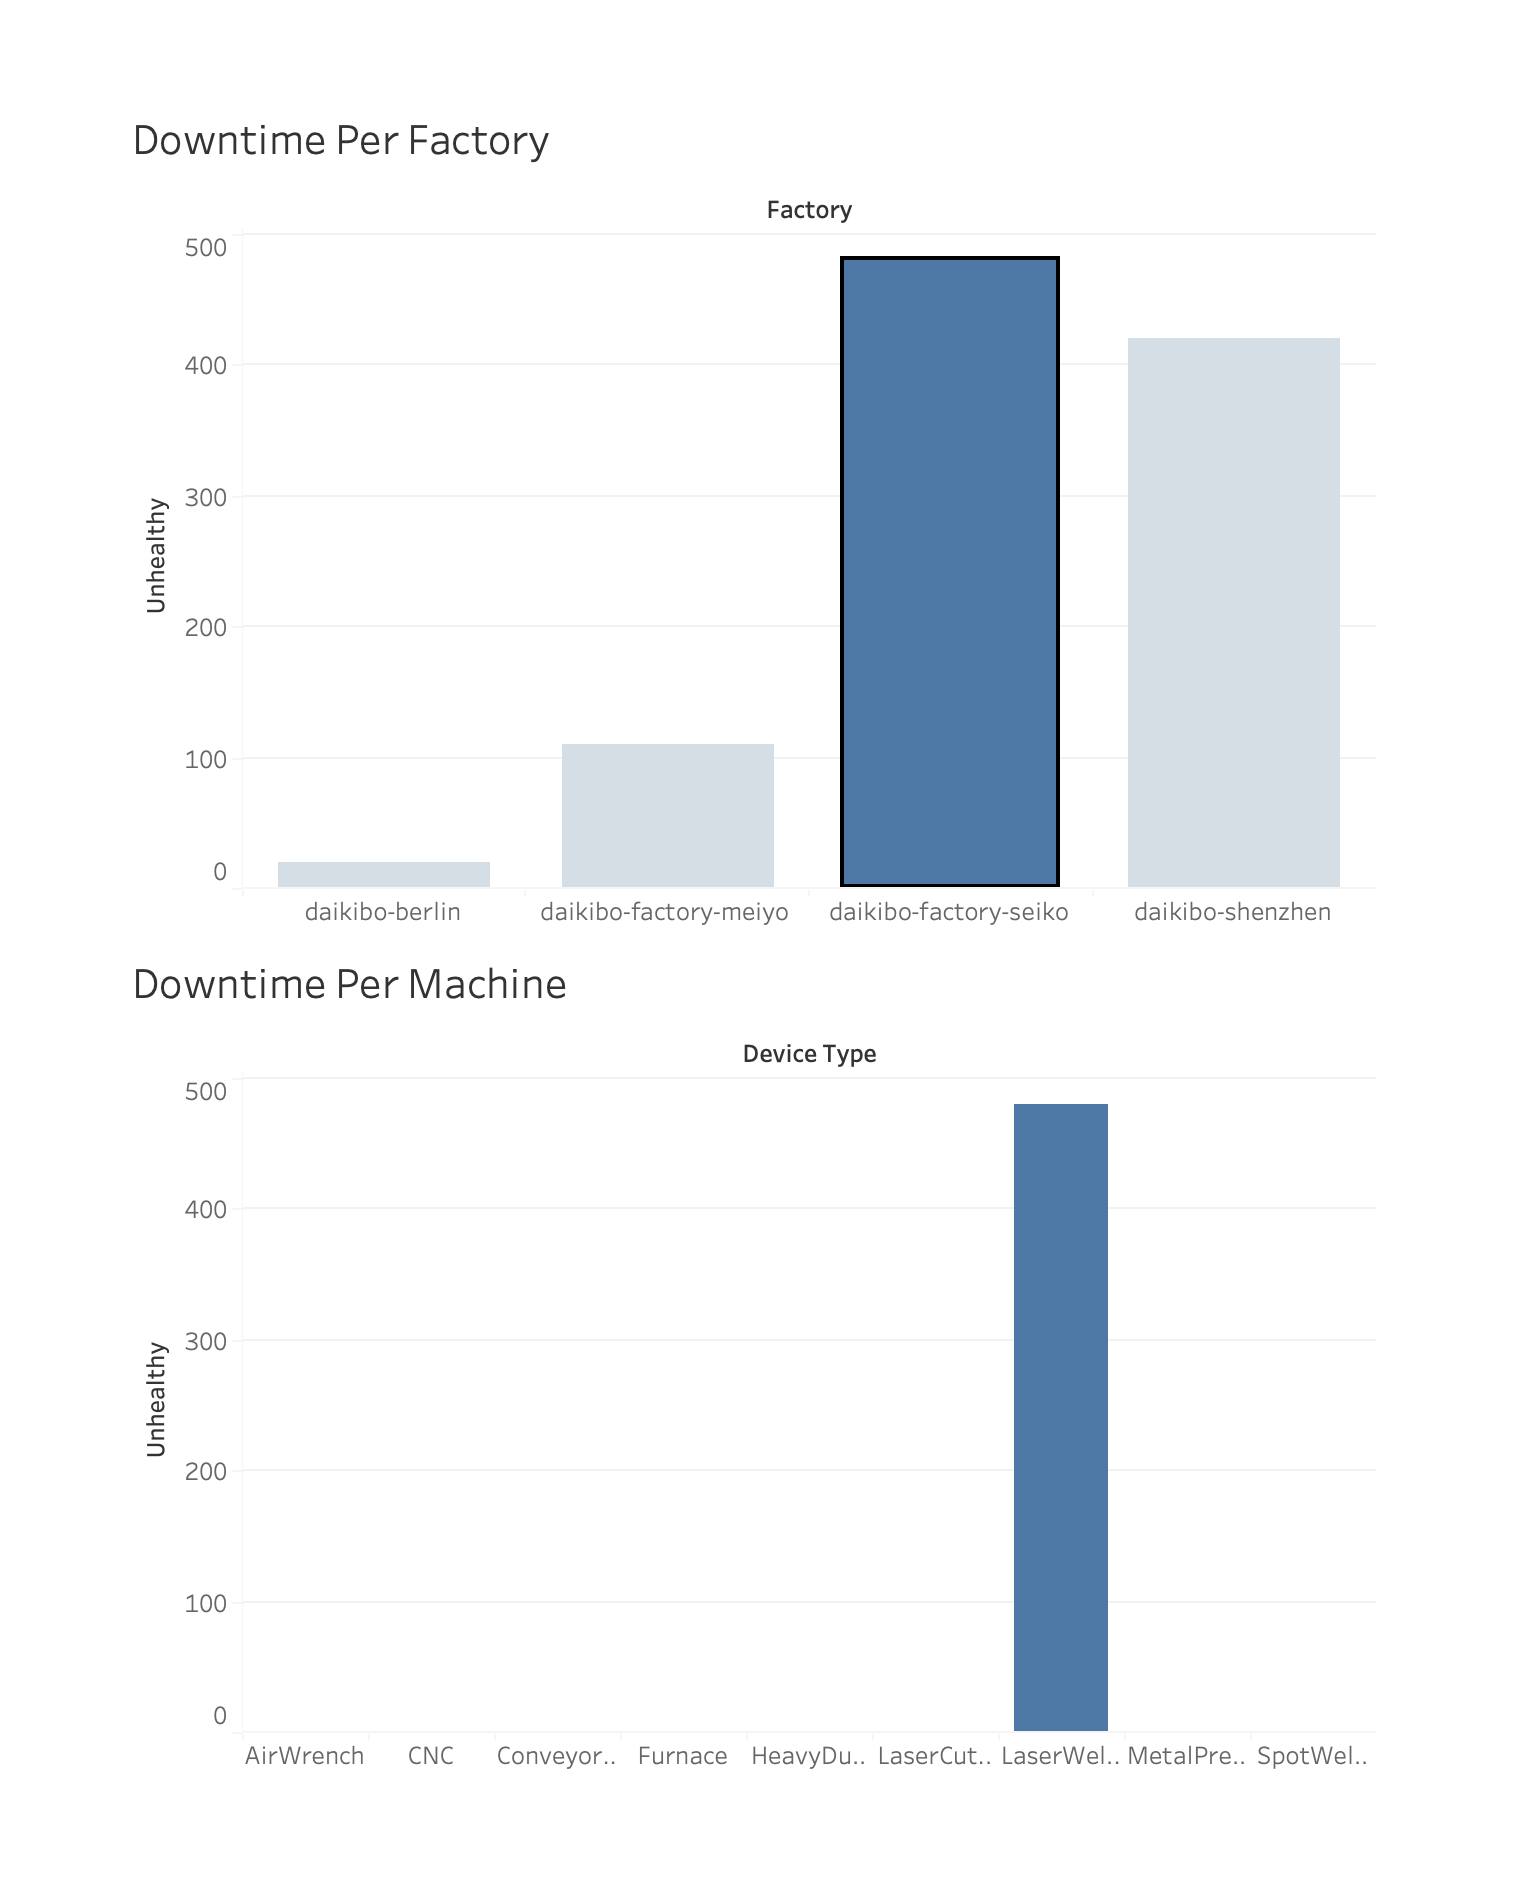

What the dashboard file says about the page in this screenshot:
{"tool":"tableau","page":{"name":"Dashboard 1","canvas":[650,860],"ordinal":0},"visuals":[{"type":"worksheet","title":"Sheet 1","mark":"Automatic","rows":["Calculation_143341192518397952"],"cols":["factory"],"box":[8,10.1,634,419.9]},{"type":"worksheet","title":"Sheet 2","mark":"Automatic","rows":["Calculation_143341192518397952"],"cols":["deviceType"],"box":[8,430,634,419.9]}]}

Visuals, with their boxes on the page's 650x860 design canvas (x1, y1, x2, y2). These are canvas units, not pixel positions in the 1522x1890 screenshot, which may show the page scaled, cropped or inside an application window:
"Sheet 1" worksheet: Rect(8, 10, 642, 430)
"Sheet 2" worksheet: Rect(8, 430, 642, 850)
